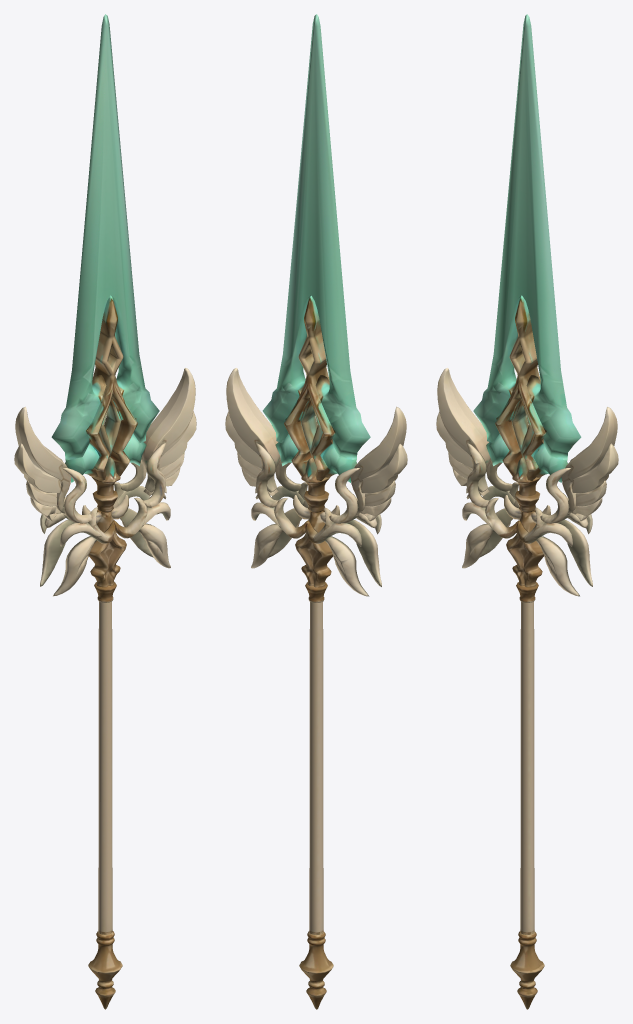
Rendered from spear.glb.
The picture shows the model from 3 angles, left to right: view 1: azimuth 30°, elevation 25°; view 2: azimuth 150°, elevation 25°; view 3: azimuth 330°, elevation 25°; orthographic projection.
Visible parts, largest first — view 1: tripo_node_bdfb632e; view 2: tripo_node_bdfb632e; view 3: tripo_node_bdfb632e.
Boxes of the visible parts, x1,y1,x2,y2 form: tripo_node_bdfb632e: [14, 14, 196, 1009]; tripo_node_bdfb632e: [225, 14, 407, 1009]; tripo_node_bdfb632e: [436, 14, 618, 1009].
Size of the model in its own units: 0.1841 by 0.9995 by 0.062.
Materials: 1 (1 with a texture image).
